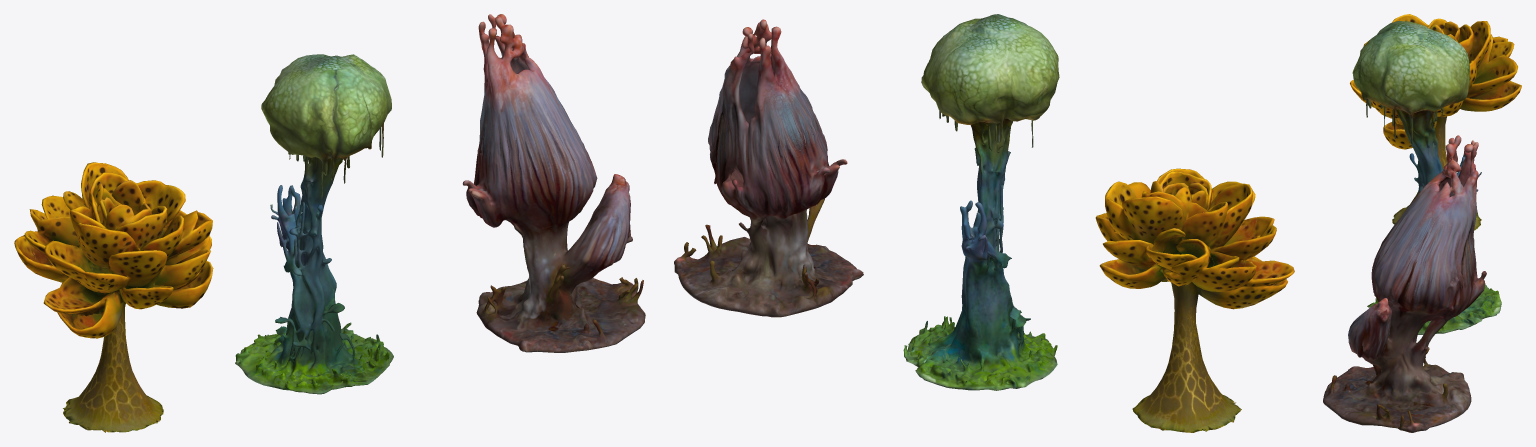
3 renders of one model, left to right at view 1: azimuth 30°, elevation 25°; view 2: azimuth 150°, elevation 25°; view 3: azimuth 270°, elevation 25°, orthographic. The views are drawn at different scales.
Visible parts, largest first — view 1: SM_asset_229, SM_asset_205, SM_asset_225; view 2: SM_asset_229, SM_asset_225, SM_asset_205; view 3: SM_asset_229, SM_asset_225, SM_asset_205.
Boxes of the visible parts, box(x1,y1,x2,y2) form: SM_asset_229: box(462, 14, 645, 352); SM_asset_205: box(14, 162, 213, 432); SM_asset_225: box(235, 54, 393, 394); SM_asset_229: box(674, 19, 863, 317); SM_asset_225: box(903, 14, 1059, 390); SM_asset_205: box(1095, 168, 1294, 432); SM_asset_229: box(1323, 135, 1486, 432); SM_asset_225: box(1352, 21, 1501, 334); SM_asset_205: box(1350, 14, 1521, 230).
Bounding box in the file's own units: 416 × 137 × 211.
